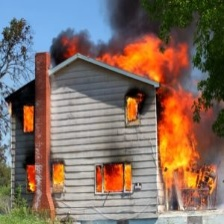fire: (156, 91, 222, 202), (55, 34, 192, 85), (89, 162, 133, 199), (18, 103, 41, 135), (50, 161, 72, 194), (124, 96, 148, 126), (26, 163, 37, 192)
smoke: (103, 2, 224, 38)
